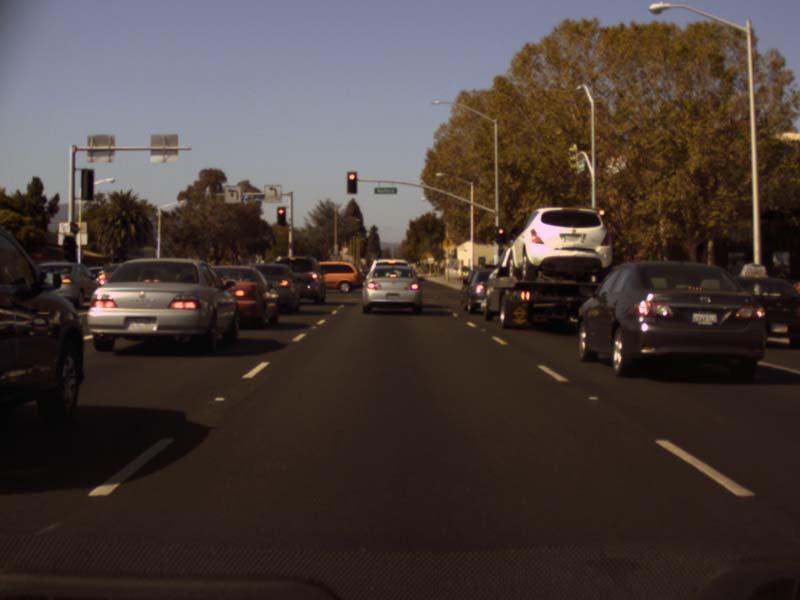Red: (346, 171, 357, 193), (276, 206, 286, 226)
